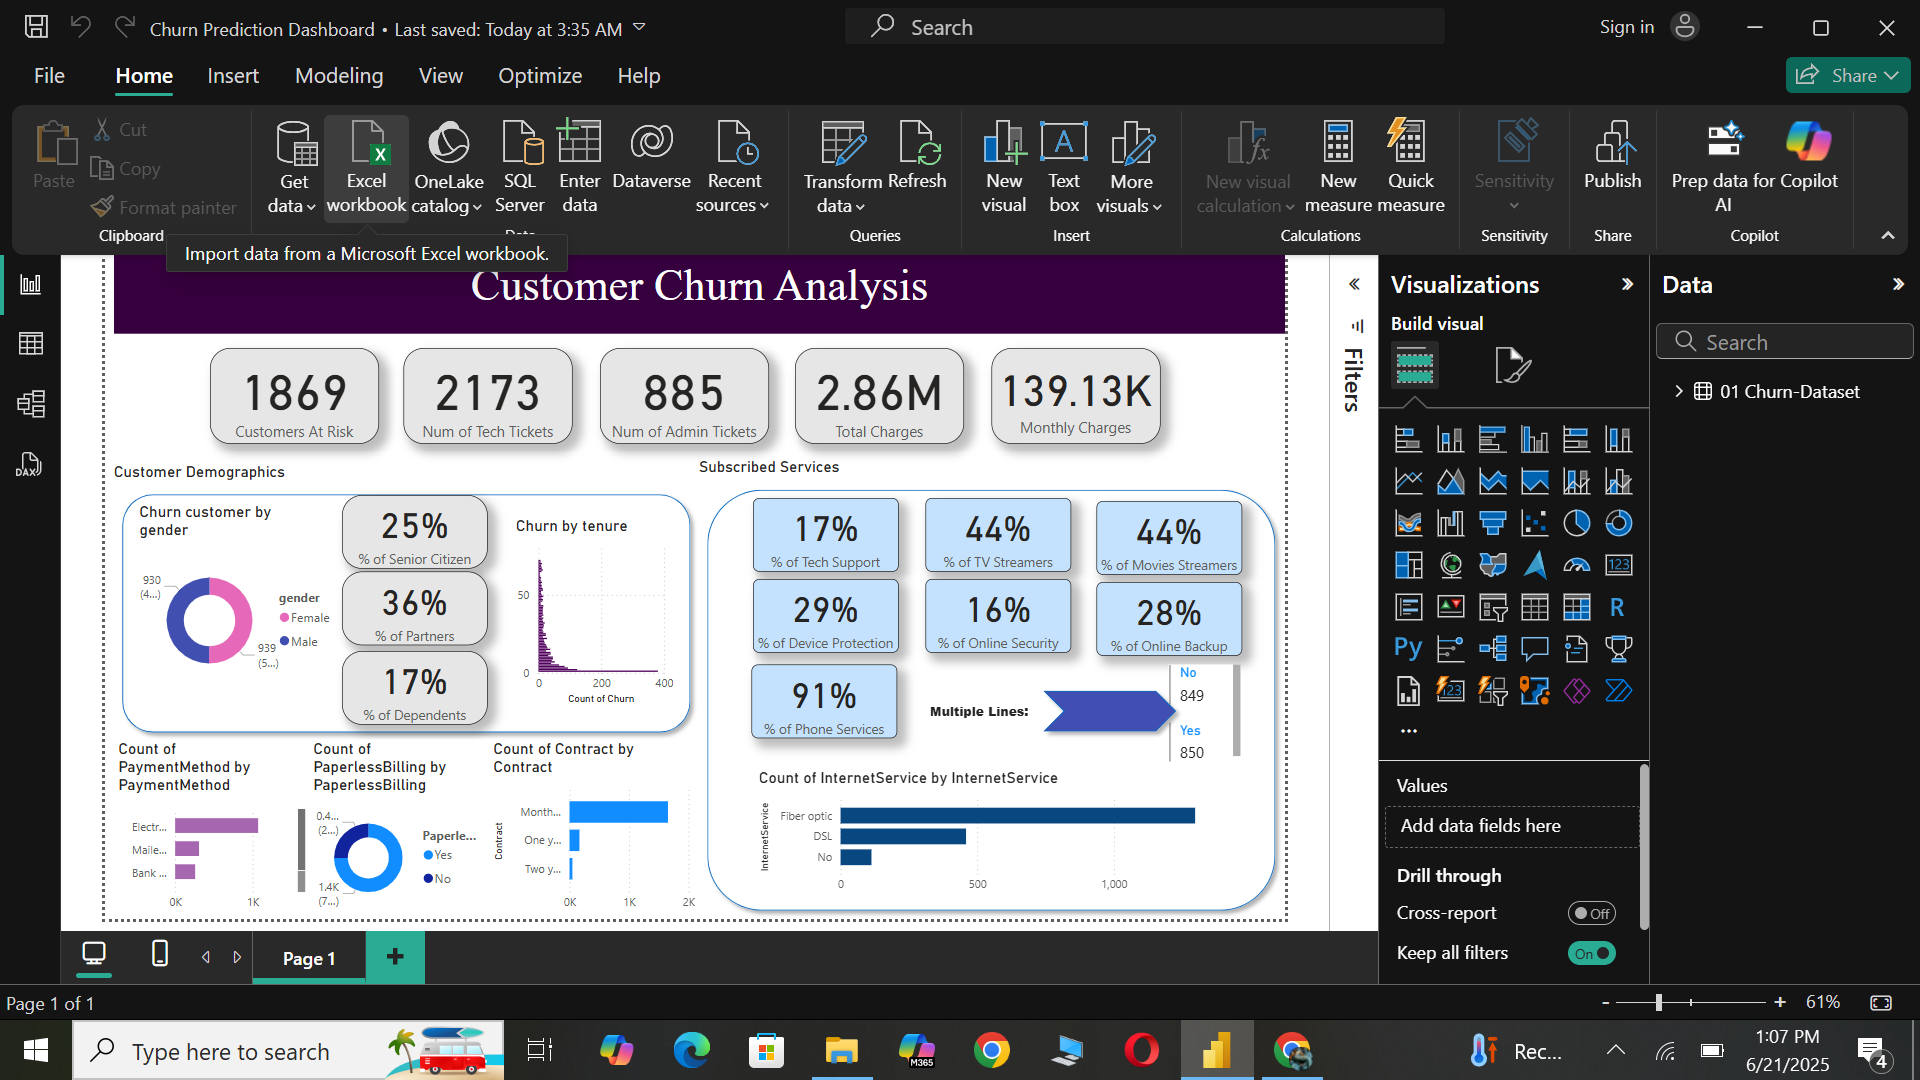

Layout of this report page (visuals, bound fields, positions):
{"tool":"powerbi","page":{"name":"Page 1","canvas":[1280,720],"ordinal":0},"visuals":[{"type":"textbox","box":[9.4,0,1269.9,85],"z":0},{"type":"card","fields":{"Values":["CountNonNull(01 Churn-Dataset.customerID)"]},"box":[114,100.8,183.3,103.9],"z":1000},{"type":"card","fields":{"Values":["Sum(01 Churn-Dataset.numTechTickets)"]},"box":[323.8,100.8,183.3,103.9],"z":2000},{"type":"card","fields":{"Values":["Sum(01 Churn-Dataset.numAdminTickets)"]},"box":[537.3,100.8,183.3,103.9],"z":3000},{"type":"card","fields":{"Values":["Sum(01 Churn-Dataset.TotalCharges)"]},"box":[749,100.8,183.3,103.9],"z":4000},{"type":"card","fields":{"Values":["Sum(01 Churn-Dataset.MonthlyCharges)"]},"box":[960.6,100.8,183,103.9],"z":5000},{"type":"shape","title":"Customer Demographics","box":[10,224,634,302],"z":6000},{"type":"donutChart","title":"Churn customer by gender","fields":{"Category":["01 Churn-Dataset.gender"],"Y":["CountNonNull(01 Churn-Dataset.customerID)"]},"box":[32,268,226,214],"z":7000},{"type":"card","fields":{"Values":["01 Churn-Dataset.%_sr"]},"box":[257.1,259.5,158.1,80],"z":8000},{"type":"card","fields":{"Values":["01 Churn-Dataset.% of Partners"]},"box":[257.1,342.9,158.1,80],"z":9000},{"type":"card","fields":{"Values":["01 Churn-Dataset.% of Dependents"]},"box":[257.1,429,158.1,80],"z":10000},{"type":"clusteredBarChart","title":"Churn by tenure","fields":{"Y":["CountNonNull(01 Churn-Dataset.Churn)"],"Category":["01 Churn-Dataset.tenure"]},"box":[440,282.3,180,208.5],"z":11000},{"type":"shape","title":"Subscribed Services","box":[644,220,634,500],"z":12000},{"type":"card","fields":{"Values":["01 Churn-Dataset.% of Tech Support"]},"box":[703.3,263.3,158,80],"z":13000},{"type":"card","fields":{"Values":["01 Churn-Dataset.% of Device Protection"]},"box":[703.3,351.3,158,80],"z":14000},{"type":"card","fields":{"Values":["01 Churn-Dataset.% of Phone Services"]},"box":[701.3,443.3,158,80],"z":15000},{"type":"card","fields":{"Values":["01 Churn-Dataset.% of TV Streamers"]},"box":[889.3,264,158,80],"z":15001},{"type":"card","fields":{"Values":["01 Churn-Dataset.% of Online Security"]},"box":[889.3,352,158,80],"z":15002},{"type":"card","fields":{"Values":["01 Churn-Dataset.% of Movies Streamers"]},"box":[1074.7,266.7,158,80],"z":15004},{"type":"card","fields":{"Values":["01 Churn-Dataset.% of Online Backup"]},"box":[1074.7,354.7,158,80],"z":15005},{"type":"multiRowCard","fields":{"Values":["01 Churn-Dataset.MultipleLines","01 Churn-Dataset.customerID"]},"box":[1154,444,78,112],"z":15006},{"type":"shape","box":[1008,464,162,62],"z":15007},{"type":"textbox","box":[890,480,134,30],"z":15008},{"type":"barChart","fields":{"Category":["01 Churn-Dataset.InternetService"],"Y":["CountNonNull(01 Churn-Dataset.InternetService)"]},"box":[704,556,528,144],"z":15009},{"type":"barChart","fields":{"Category":["01 Churn-Dataset.PaymentMethod"],"Y":["CountNonNull(01 Churn-Dataset.PaymentMethod)"]},"box":[10,526,212,194],"z":15010},{"type":"donutChart","fields":{"Category":["01 Churn-Dataset.PaperlessBilling"],"Y":["CountNonNull(01 Churn-Dataset.PaperlessBilling)"]},"box":[222,526,194,194],"z":15011},{"type":"barChart","fields":{"Category":["01 Churn-Dataset.Contract"],"Y":["CountNonNull(01 Churn-Dataset.Contract)"]},"box":[416,526,228,194],"z":15012}]}

Visuals, with their boxes on the page's 1280x720 design canvas (x1, y1, x2, y2). These are canvas units, not pixel positions in the 1920x1080 screenshot, which may show the page scaled, cropped or inside an application window:
textbox: x1=9 y1=0 x2=1279 y2=85
card - CountNonNull(01 Churn-Dataset.customerID): x1=114 y1=101 x2=297 y2=205
card - Sum(01 Churn-Dataset.numTechTickets): x1=324 y1=101 x2=507 y2=205
card - Sum(01 Churn-Dataset.numAdminTickets): x1=537 y1=101 x2=721 y2=205
card - Sum(01 Churn-Dataset.TotalCharges): x1=749 y1=101 x2=932 y2=205
card - Sum(01 Churn-Dataset.MonthlyCharges): x1=961 y1=101 x2=1144 y2=205
"Customer Demographics" shape: x1=10 y1=224 x2=644 y2=526
"Churn customer by gender" donutChart: x1=32 y1=268 x2=258 y2=482
card - 01 Churn-Dataset.%_sr: x1=257 y1=260 x2=415 y2=340
card - 01 Churn-Dataset.% of Partners: x1=257 y1=343 x2=415 y2=423
card - 01 Churn-Dataset.% of Dependents: x1=257 y1=429 x2=415 y2=509
"Churn by tenure" clusteredBarChart: x1=440 y1=282 x2=620 y2=491
"Subscribed Services" shape: x1=644 y1=220 x2=1278 y2=720
card - 01 Churn-Dataset.% of Tech Support: x1=703 y1=263 x2=861 y2=343
card - 01 Churn-Dataset.% of Device Protection: x1=703 y1=351 x2=861 y2=431
card - 01 Churn-Dataset.% of Phone Services: x1=701 y1=443 x2=859 y2=523
card - 01 Churn-Dataset.% of TV Streamers: x1=889 y1=264 x2=1047 y2=344
card - 01 Churn-Dataset.% of Online Security: x1=889 y1=352 x2=1047 y2=432
card - 01 Churn-Dataset.% of Movies Streamers: x1=1075 y1=267 x2=1233 y2=347
card - 01 Churn-Dataset.% of Online Backup: x1=1075 y1=355 x2=1233 y2=435
multiRowCard - 01 Churn-Dataset.MultipleLines x 01 Churn-Dataset.customerID: x1=1154 y1=444 x2=1232 y2=556
shape: x1=1008 y1=464 x2=1170 y2=526
textbox: x1=890 y1=480 x2=1024 y2=510
barChart - 01 Churn-Dataset.InternetService x CountNonNull(01 Churn-Dataset.InternetService): x1=704 y1=556 x2=1232 y2=700
barChart - 01 Churn-Dataset.PaymentMethod x CountNonNull(01 Churn-Dataset.PaymentMethod): x1=10 y1=526 x2=222 y2=720
donutChart - 01 Churn-Dataset.PaperlessBilling x CountNonNull(01 Churn-Dataset.PaperlessBilling): x1=222 y1=526 x2=416 y2=720
barChart - 01 Churn-Dataset.Contract x CountNonNull(01 Churn-Dataset.Contract): x1=416 y1=526 x2=644 y2=720
